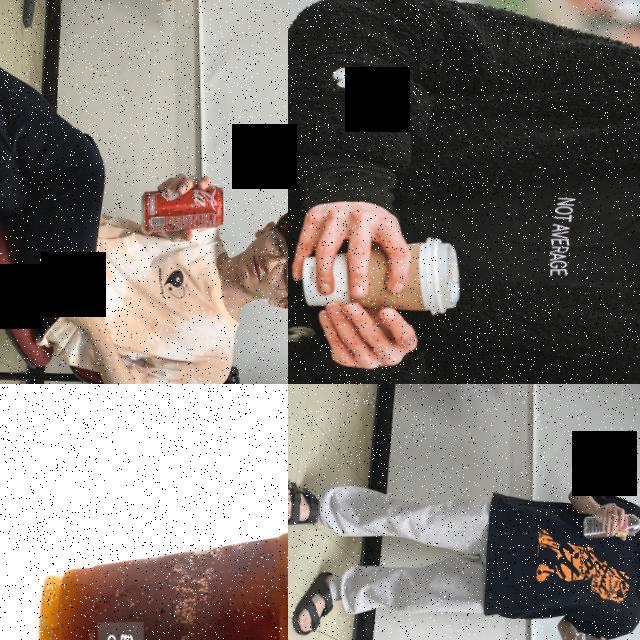bottle: (582, 511, 640, 536), (571, 630, 635, 640)
can: (138, 181, 224, 234)
cup: (34, 493, 288, 640), (296, 236, 462, 316)
